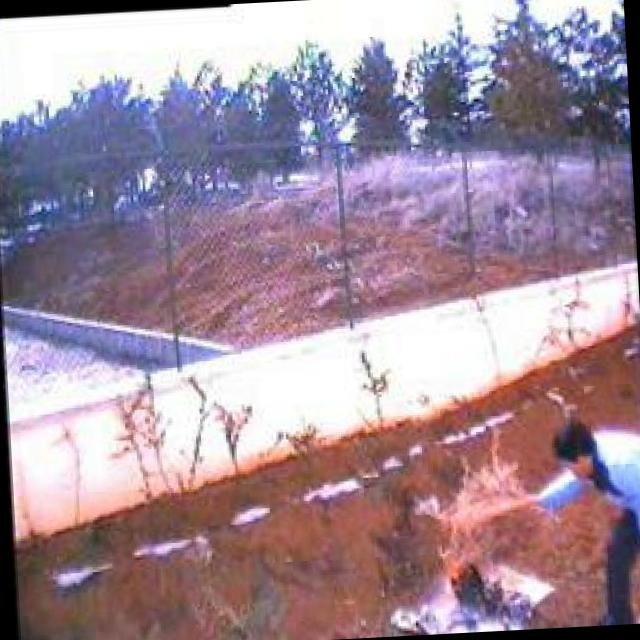Fire: (431, 544, 492, 608)
